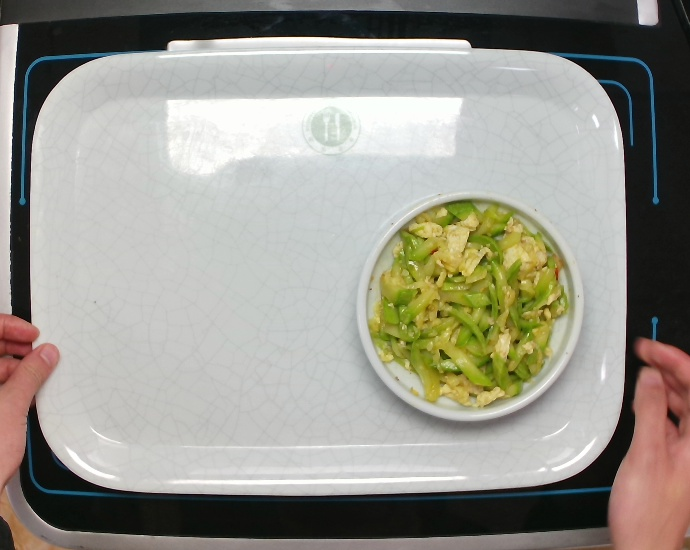JYsf-Xiao_Yuan_Pan: (352, 194, 589, 430)
